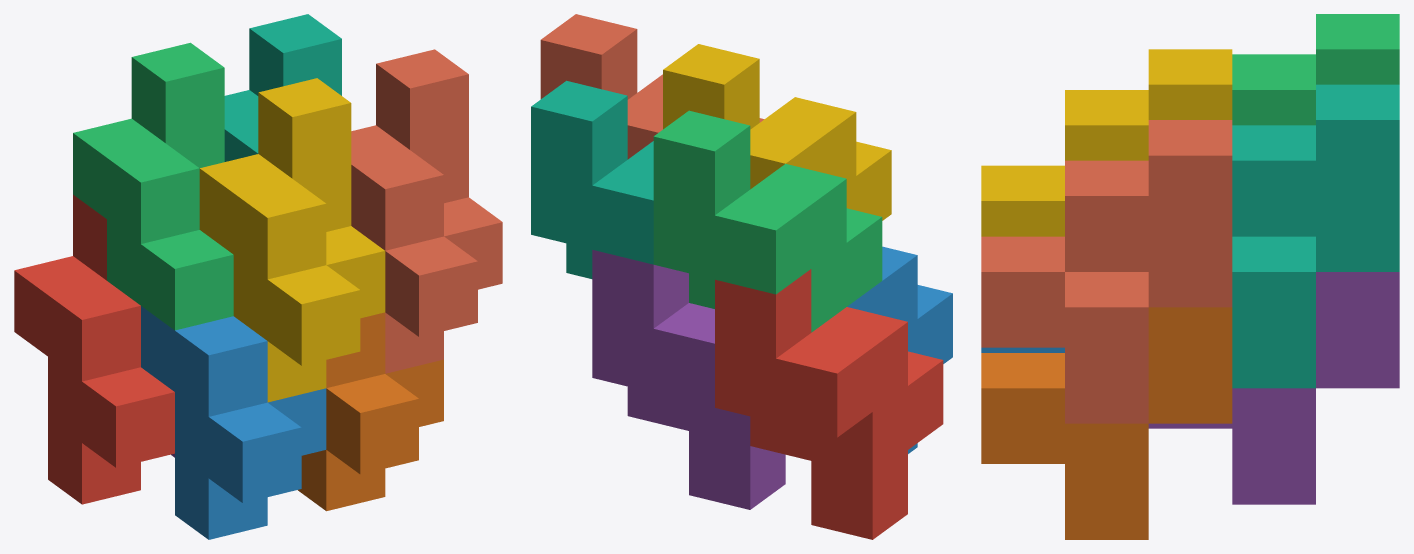
File: tiling.obj
3 views of the same model, side by side, from view 1: azimuth 30°, elevation 25°; view 2: azimuth 150°, elevation 25°; view 3: azimuth 270°, elevation 25° (orthographic). The views are drawn at different scales.
Visible parts, largest first — view 1: copy_1_domain_4, copy_1_domain_8, copy_1_domain_3, copy_1_domain_1, copy_1_domain_2, copy_1_domain_6, copy_1_domain_7; view 2: copy_1_domain_1, copy_1_domain_3, copy_1_domain_5, copy_1_domain_7, copy_1_domain_4, copy_1_domain_8, copy_1_domain_2; view 3: copy_1_domain_8, copy_1_domain_7, copy_1_domain_6, copy_1_domain_5, copy_1_domain_4, copy_1_domain_3, copy_1_domain_2.
Part boxes in pixels (x1,y1,x2,y2): copy_1_domain_4: [199, 78, 385, 402]; copy_1_domain_8: [351, 49, 502, 373]; copy_1_domain_3: [73, 42, 233, 330]; copy_1_domain_1: [14, 194, 174, 504]; copy_1_domain_2: [141, 306, 326, 539]; copy_1_domain_6: [298, 312, 443, 511]; copy_1_domain_7: [224, 14, 341, 161]; copy_1_domain_1: [715, 269, 943, 539]; copy_1_domain_3: [653, 110, 882, 332]; copy_1_domain_5: [592, 250, 785, 509]; copy_1_domain_7: [531, 80, 653, 278]; copy_1_domain_4: [663, 44, 891, 220]; copy_1_domain_8: [540, 14, 764, 159]; copy_1_domain_2: [847, 246, 952, 453]; copy_1_domain_8: [981, 120, 1232, 423]; copy_1_domain_7: [1232, 84, 1399, 388]; copy_1_domain_6: [981, 307, 1232, 539]; copy_1_domain_5: [1148, 272, 1399, 504]; copy_1_domain_4: [981, 49, 1232, 236]; copy_1_domain_3: [1232, 14, 1399, 125]; copy_1_domain_2: [981, 347, 1064, 352].
Size of the model in its own units: 6 by 6 by 5.
